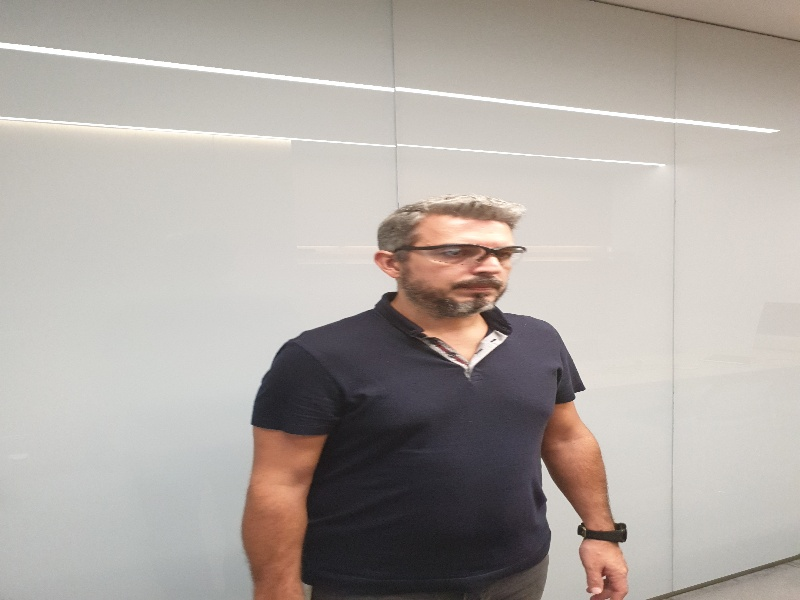Gozluk: (395, 242, 528, 267)
